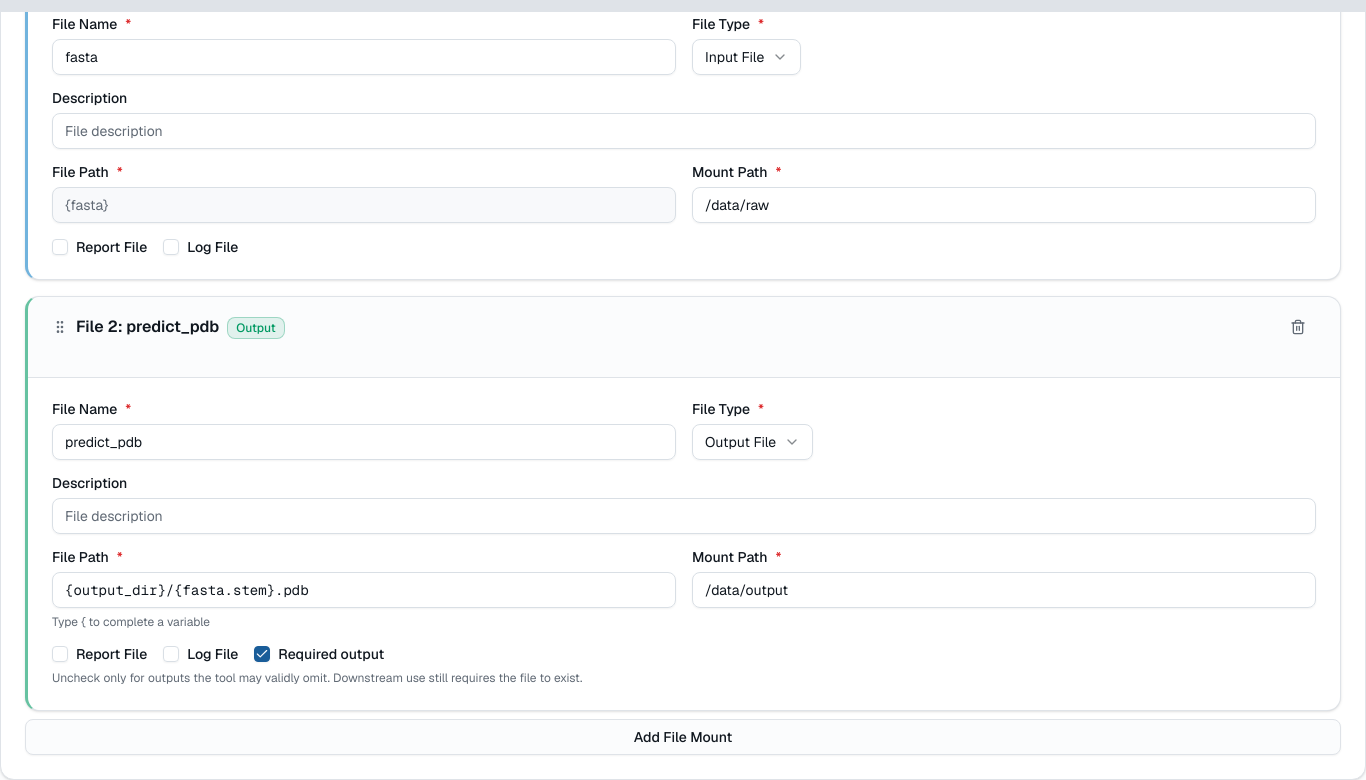
Test: required outputs › defaults older output definitions to required and allows toggling
This screenshot has width=1366, height=780.
Click the checkbox named "Required output" next to "Required output" at (262, 654), box [254,646,270,662]
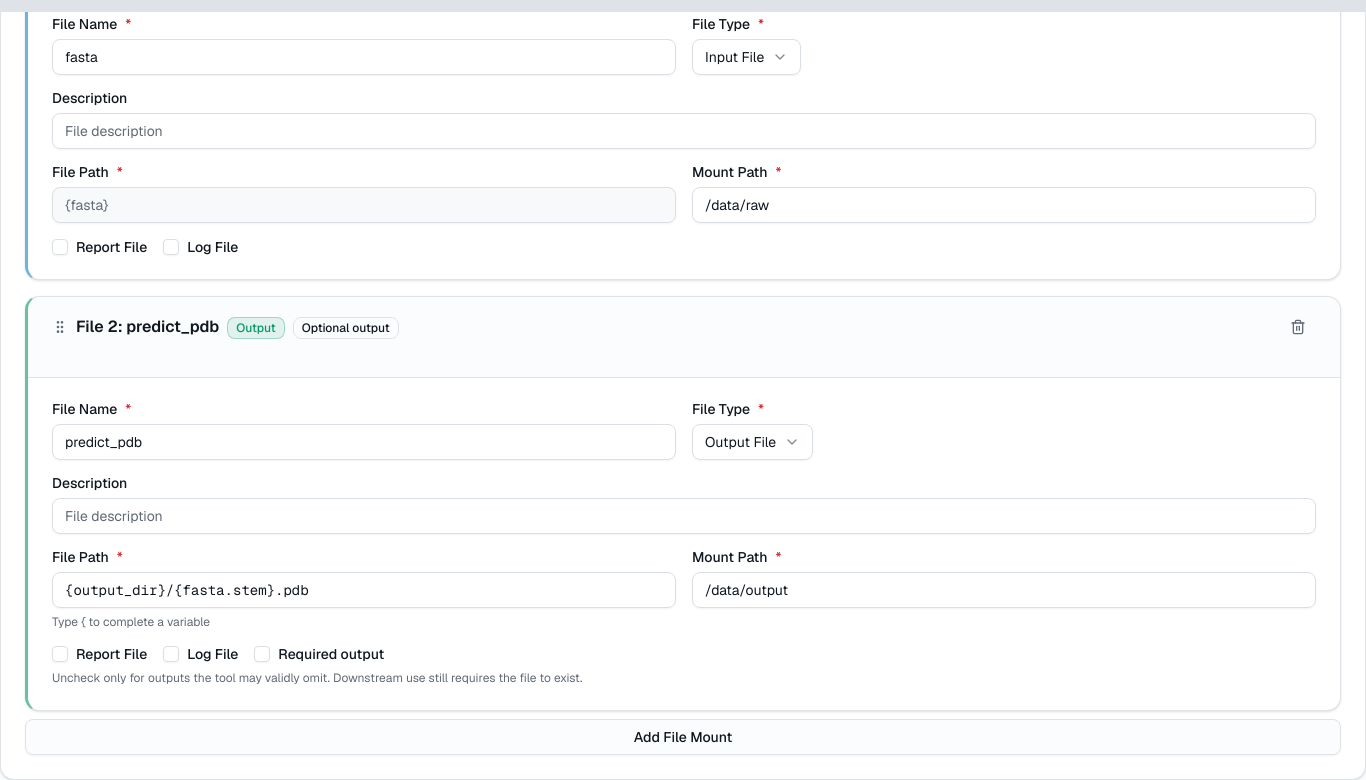
Expected: the checkbox named "Required output" next to "Required output" is not checked
Expected: the text "Optional output" is shown, [293,317,399,339]
Click the checkbox named "Required output" next to "Required output" at (262, 654), box [254,646,270,662]
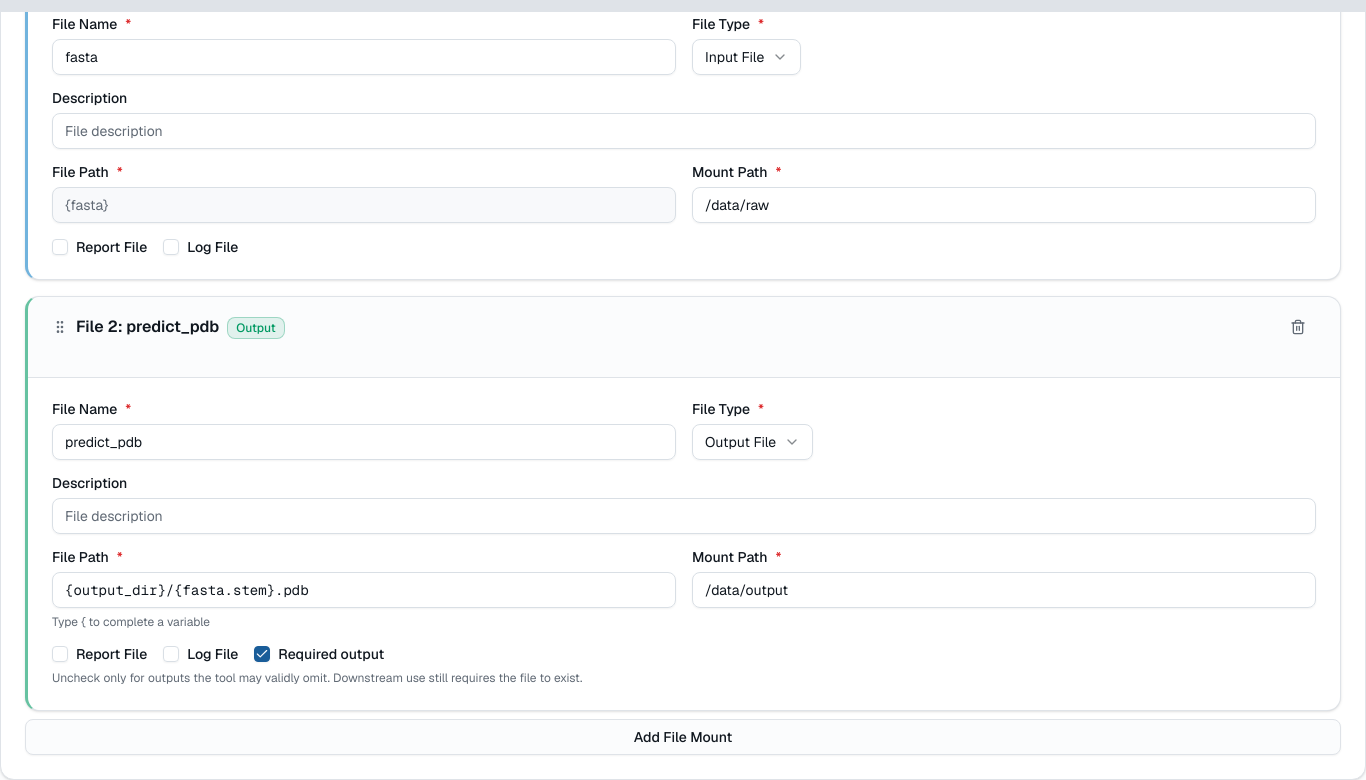
Expected: the checkbox named "Required output" next to "Required output" is checked, [254,646,270,662]
Expected: the text "Optional output" is gone
